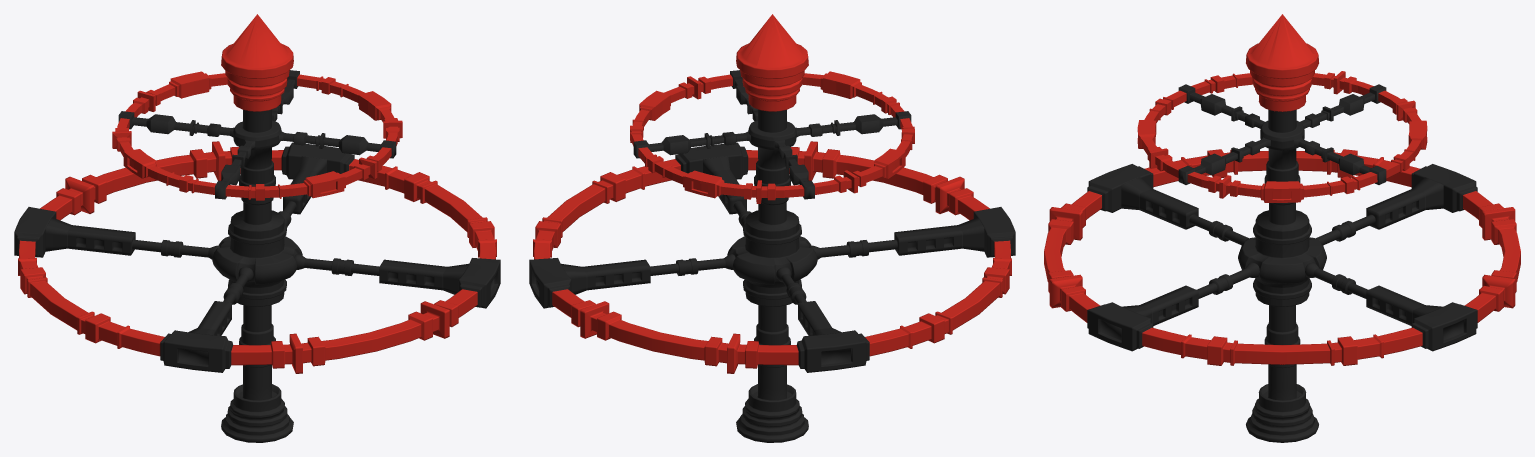
Rendered from situation_red_low.glb.
The picture shows the model from 3 angles, left to right: view 1: azimuth 30°, elevation 25°; view 2: azimuth 150°, elevation 25°; view 3: azimuth 270°, elevation 25°; orthographic projection.
Visible parts, largest first — view 1: external_smaller; view 2: external_smaller; view 3: external_smaller.
Boxes of the visible parts, box(x1,y1,x2,y2) form: external_smaller: box(14, 14, 500, 442); external_smaller: box(529, 14, 1015, 442); external_smaller: box(1044, 14, 1520, 442).
Bounding box in the file's own units: 7.45 × 7.14 × 7.45.
